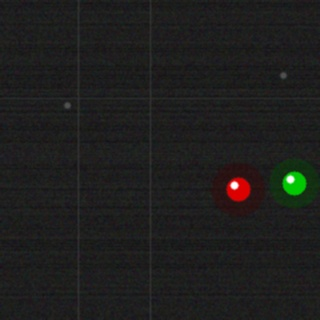green_normal: (280, 169, 308, 197)
red_fault: (224, 175, 252, 203)
